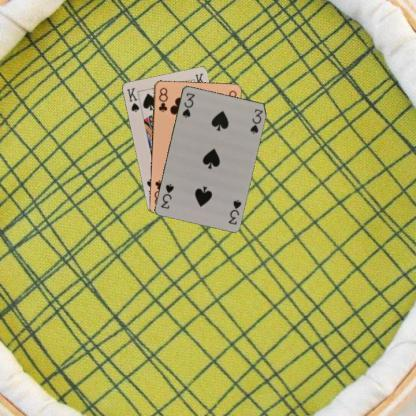3s: (180, 90, 196, 119), (226, 197, 242, 225)
8c: (156, 85, 169, 113)
Ks: (124, 85, 140, 113)
